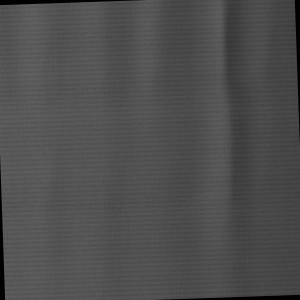Wrinkle: (84, 1, 189, 300), (194, 1, 290, 299)
